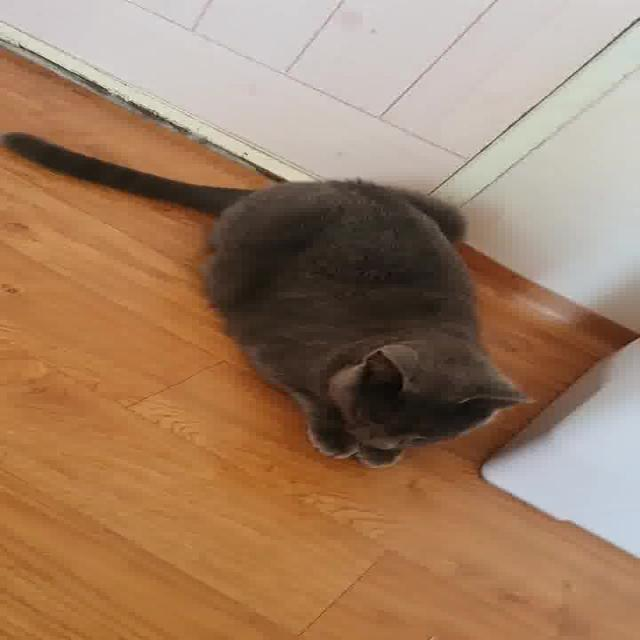cat: (3, 124, 539, 474)
